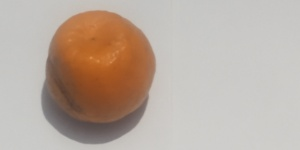BAD: (44, 6, 161, 131)
